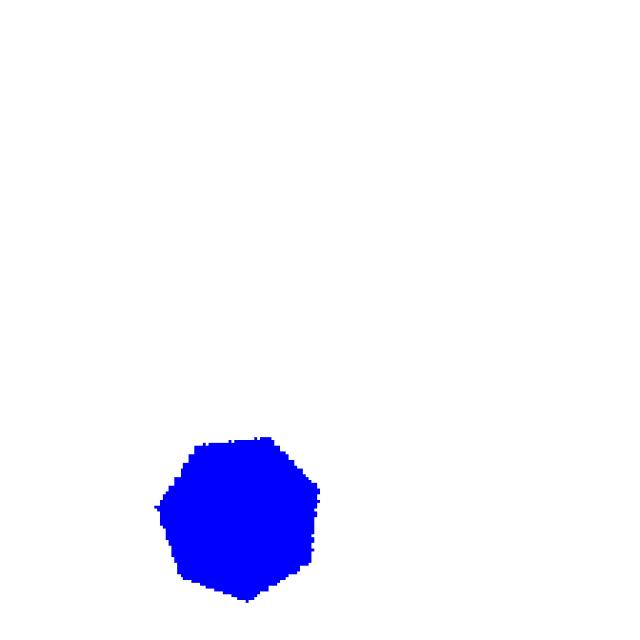Heptagon: (137, 412, 353, 614)
